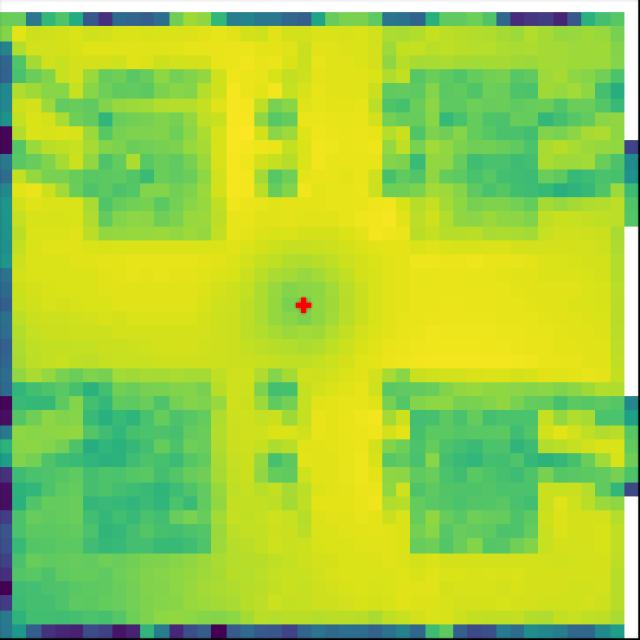Concrete: (81, 67, 228, 242)
Glass: (68, 371, 214, 557)
Metal: (411, 70, 538, 230)
Wood: (409, 408, 544, 556)
